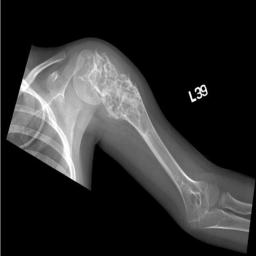cancer: (78, 52, 155, 135)
